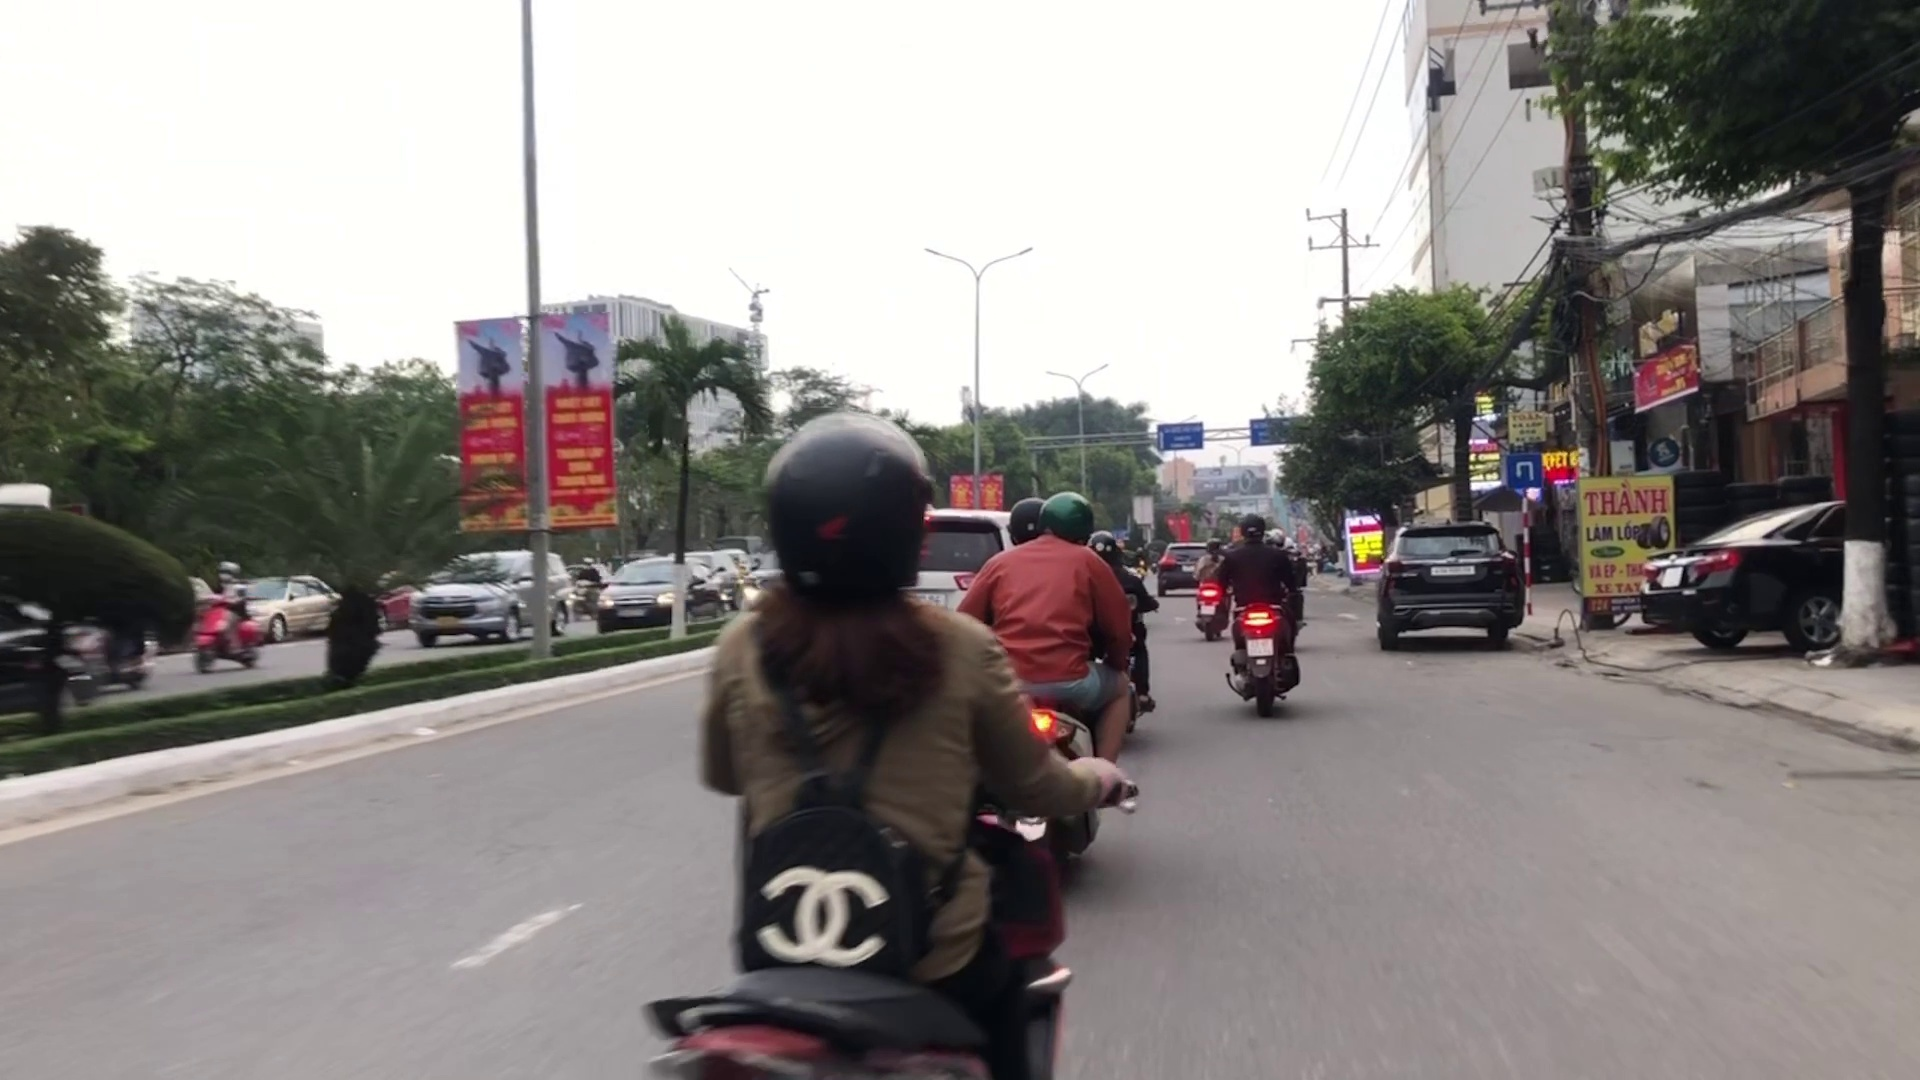Bien khac: (1506, 451, 1545, 488)
